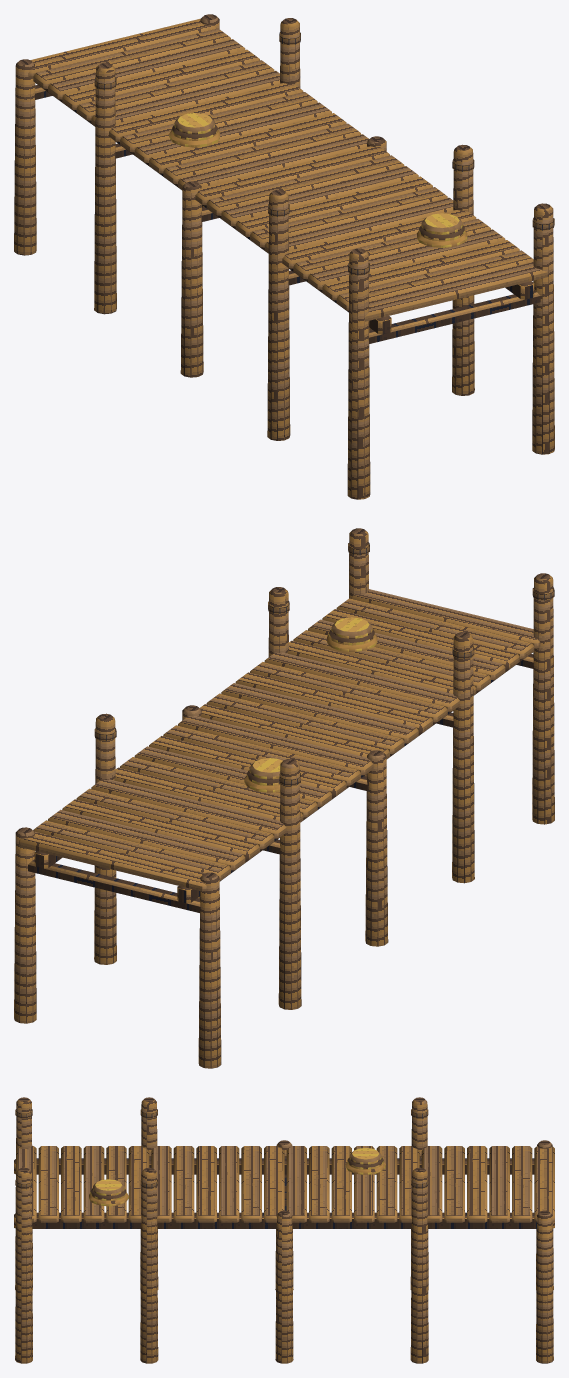
The model's file is med_pier_1.glb.
The picture shows the model from 3 angles, top to bottom: view 1: azimuth 30°, elevation 25°; view 2: azimuth 150°, elevation 25°; view 3: azimuth 270°, elevation 25°; orthographic projection. The views are drawn at different scales.
Visible parts, largest first — view 1: med_pier_2; view 2: med_pier_2; view 3: med_pier_2.
Part boxes in pixels (<box>): med_pier_2: <box>14,14,554,499</box>; med_pier_2: <box>14,528,554,1068</box>; med_pier_2: <box>14,1097,554,1363</box>.
Size of the model in its own units: 2.72 by 3.1 by 8.
5 materials, 5 textured.
